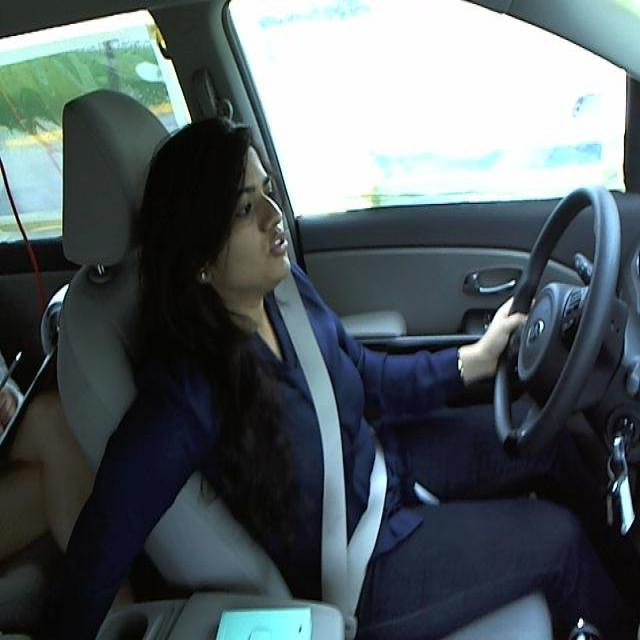seatbelt: (280, 296, 389, 600)
